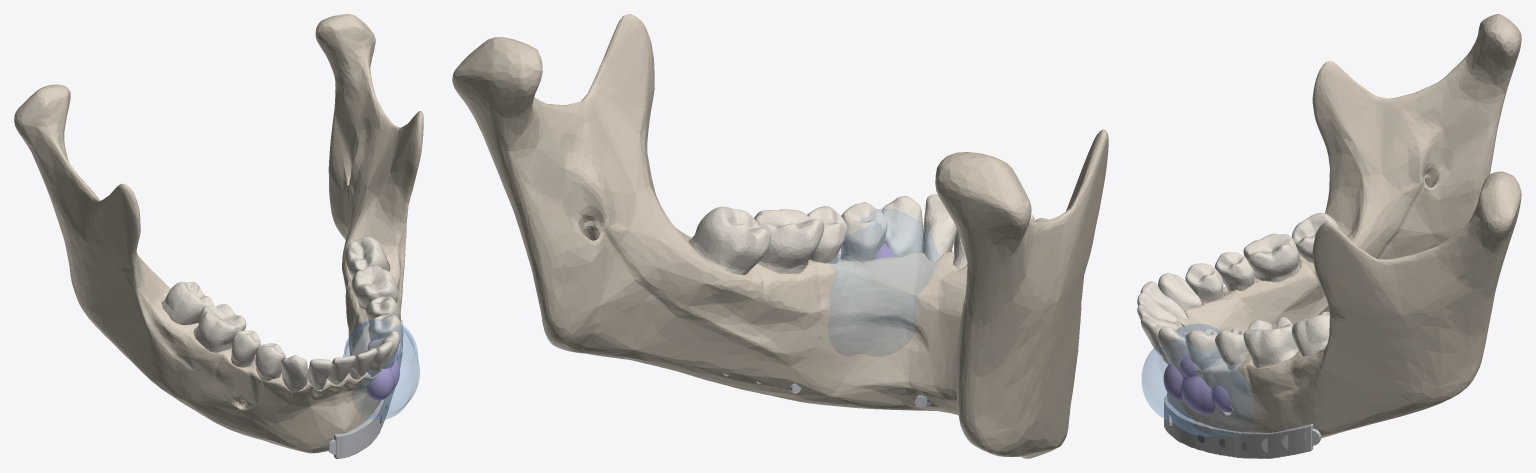
Rendered from ameloblastoma-case.glb.
3 views of the same model, side by side, from view 1: azimuth 30°, elevation 25°; view 2: azimuth 150°, elevation 25°; view 3: azimuth 270°, elevation 25° (orthographic). The views are drawn at different scales.
Parts seen in each view (by area): view 1: bone, teeth, margin, specimen_teeth, plate, specimen_bone, lesion; view 2: bone, specimen_bone, margin, teeth, specimen_teeth; view 3: bone, teeth, margin, plate, specimen_teeth, specimen_bone, lesion.
Part boxes in pixels (x1=…): bone: x1=14, y1=14, x2=423, y2=453; teeth: x1=162, y1=236, x2=398, y2=391; margin: x1=343, y1=319, x2=419, y2=419; specimen_teeth: x1=363, y1=296, x2=401, y2=377; plate: x1=334, y1=320, x2=402, y2=458; specimen_bone: x1=350, y1=309, x2=397, y2=418; lesion: x1=366, y1=340, x2=399, y2=400; bone: x1=452, y1=14, x2=1108, y2=458; specimen_bone: x1=806, y1=252, x2=948, y2=382; margin: x1=828, y1=209, x2=952, y2=356; teeth: x1=689, y1=206, x2=1048, y2=275; specimen_teeth: x1=807, y1=194, x2=956, y2=263; bone: x1=1167, y1=14, x2=1521, y2=438; teeth: x1=1137, y1=212, x2=1339, y2=367; margin: x1=1142, y1=324, x2=1253, y2=436; plate: x1=1164, y1=395, x2=1313, y2=458; specimen_teeth: x1=1140, y1=317, x2=1250, y2=376; specimen_bone: x1=1162, y1=356, x2=1254, y2=432; lesion: x1=1163, y1=354, x2=1231, y2=414.
Bounding box in the file's own units: 0.103 × 0.0817 × 0.0866.
